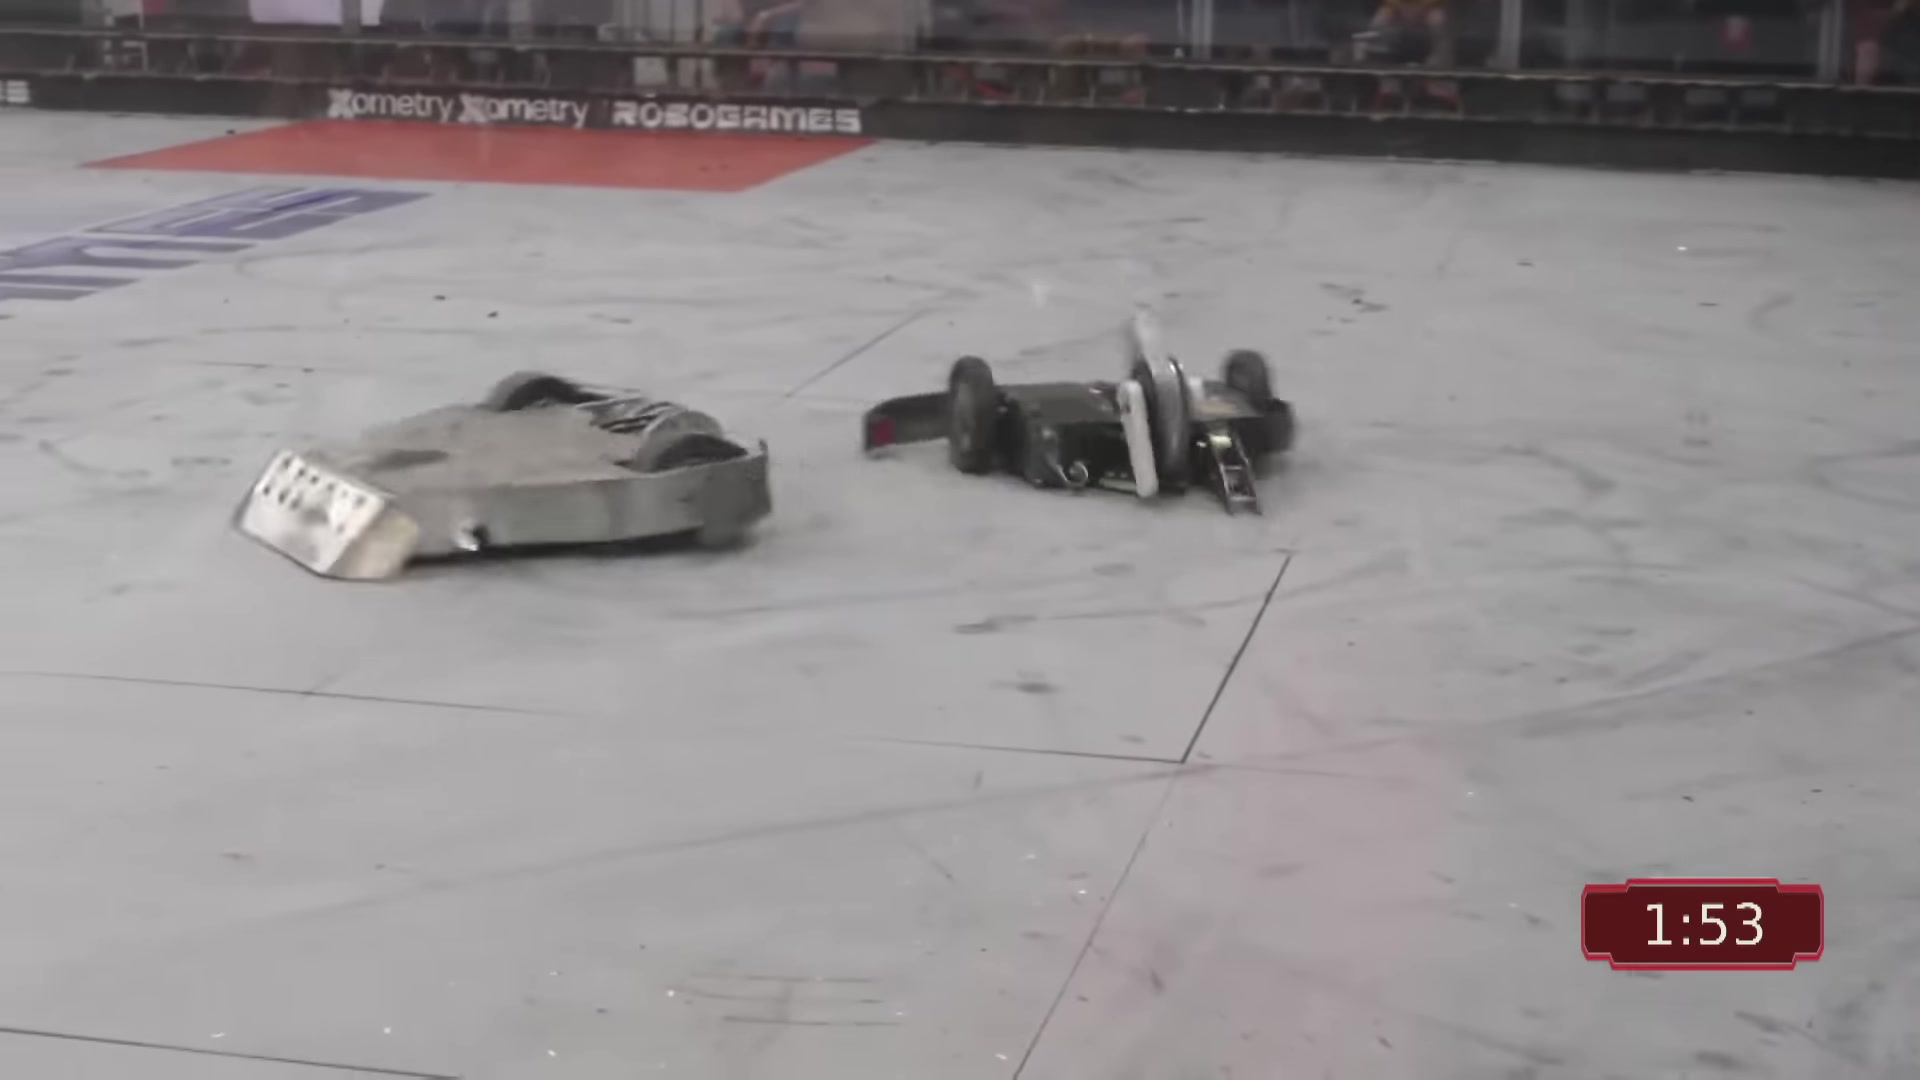combatbot: (231, 371, 767, 593), (864, 315, 1298, 524)
